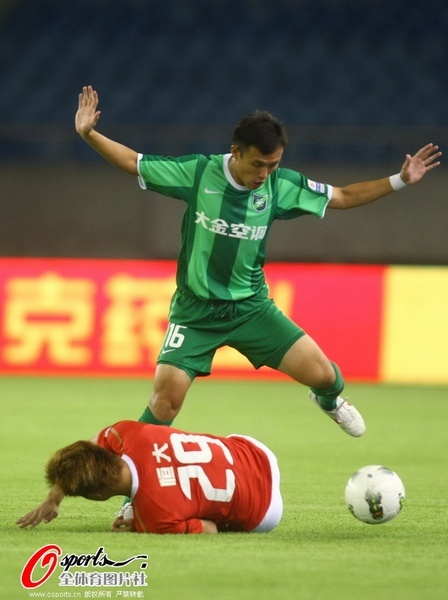falling: (12, 404, 294, 533)
